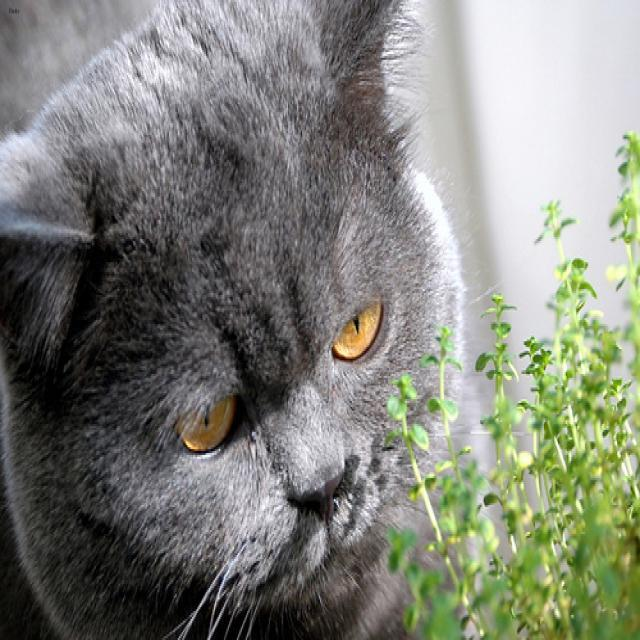British_Shorthair: (0, 0, 458, 613)
